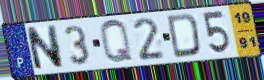2: (132, 17, 168, 63)
3: (63, 24, 92, 67)
5: (202, 9, 232, 56)
D: (165, 12, 203, 59)
N: (24, 23, 65, 73)
Q: (98, 18, 136, 66)
